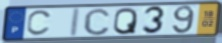3: (139, 5, 168, 36)
9: (170, 5, 196, 35)
C: (83, 7, 112, 37), (25, 9, 54, 37)
I: (67, 7, 82, 38)
Q: (112, 6, 139, 36)
